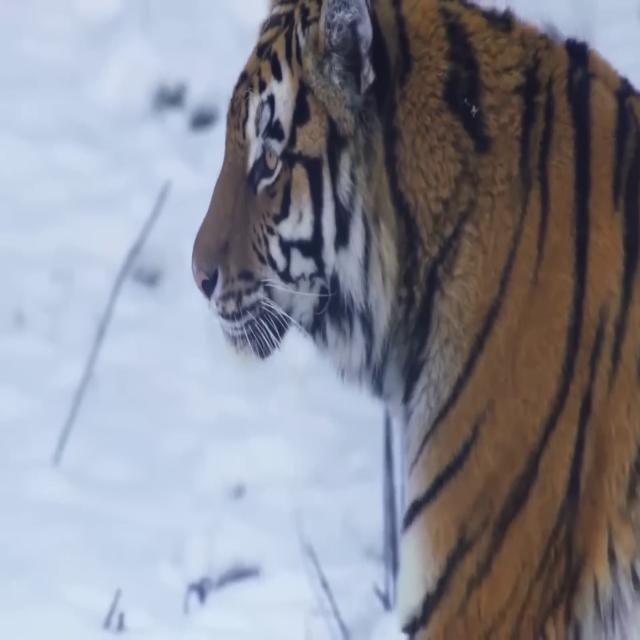tiger: (191, 0, 640, 640)
